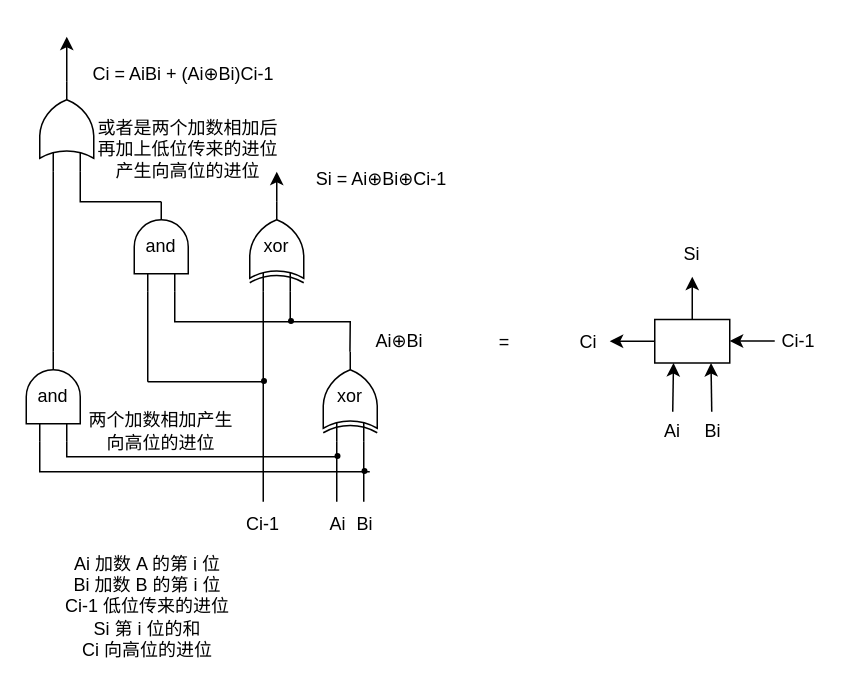
The diagram is 849 pixels wide and 693 high, and some of its shapes have lost their labels. The centre of each missing label's shape, as x and y in pixels:
"FA" goes at (691,340).
"or" goes at (66,126).
